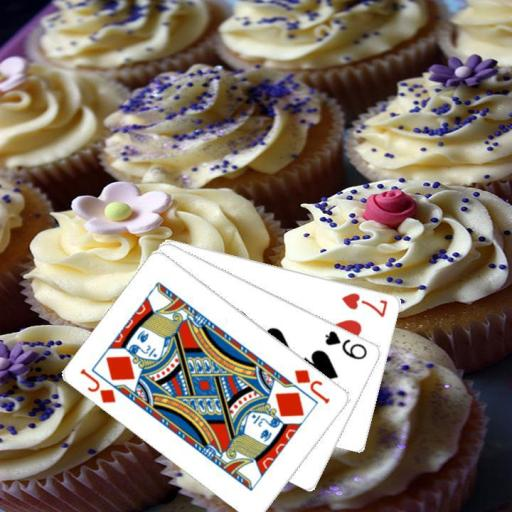7H: (339, 290, 390, 319)
9S: (321, 327, 369, 361)
JD: (77, 365, 118, 405), (292, 366, 332, 406)
